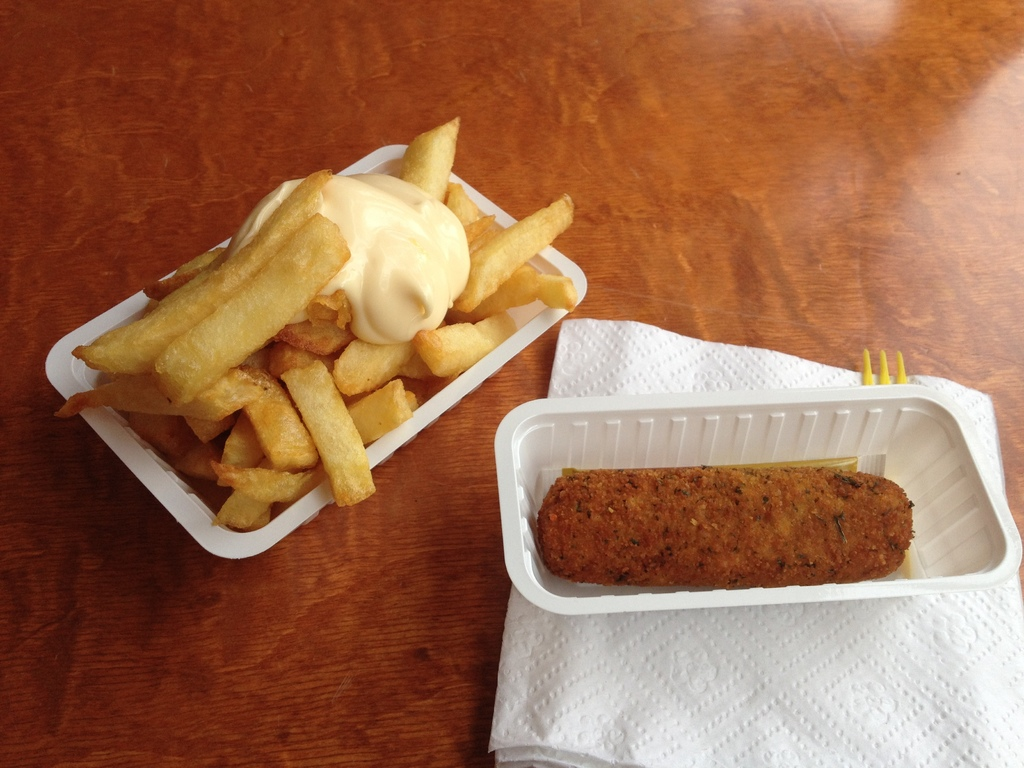French fries: (50, 108, 577, 538)
